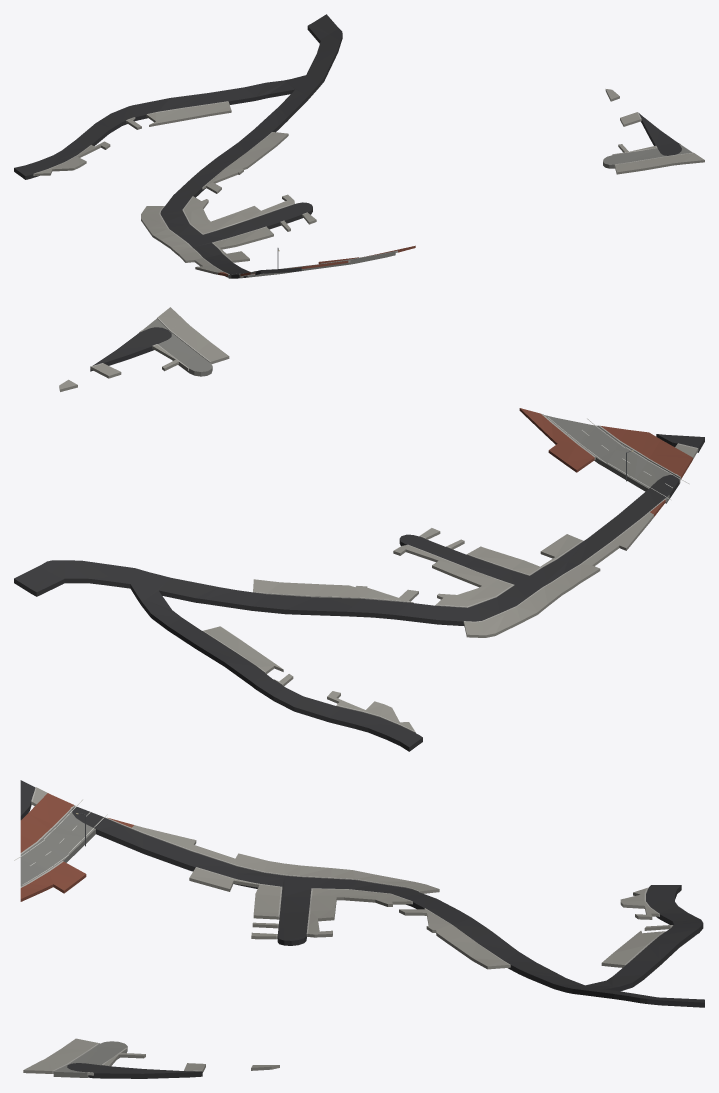
The picture shows the model from 3 angles, top to bottom: view 1: azimuth 30°, elevation 25°; view 2: azimuth 150°, elevation 25°; view 3: azimuth 270°, elevation 25°; orthographic projection. The views are drawn at different scales.
Bounding box in the file's own units: 150 × 26.88 × 147.
